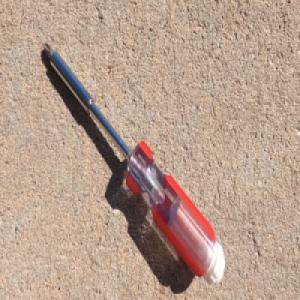Screwdriver: (42, 40, 226, 287)
